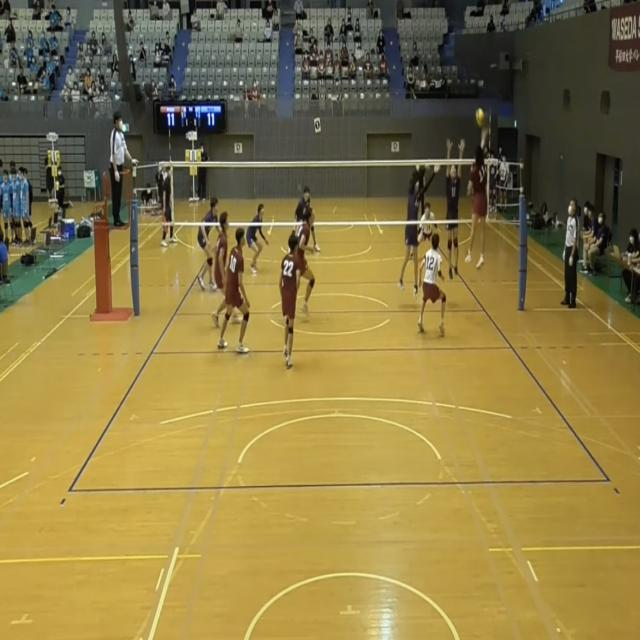spike: (462, 103, 494, 278)
